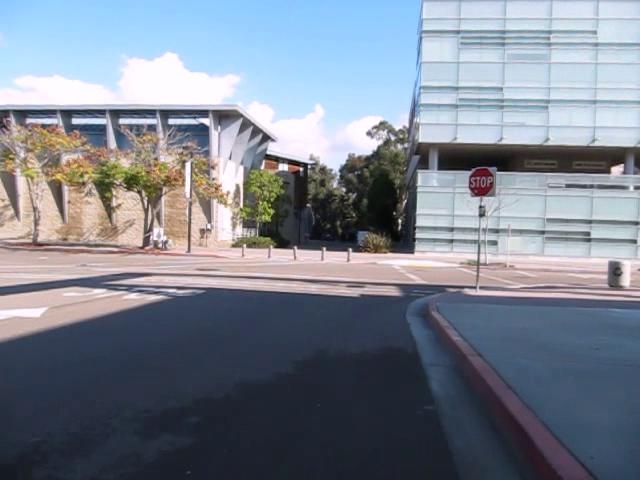stop: (468, 166, 495, 198)
